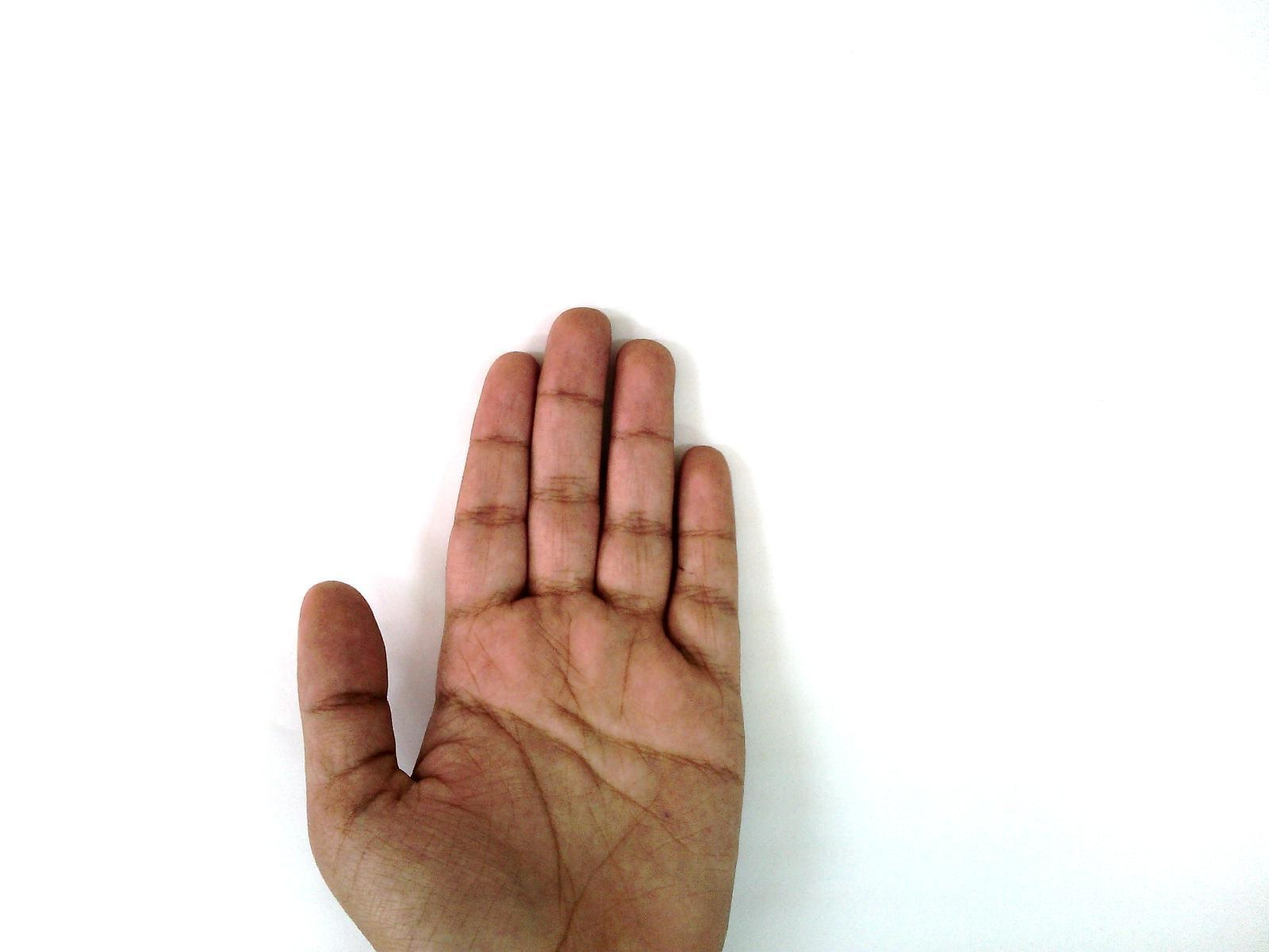open_palm: (294, 306, 751, 952)
